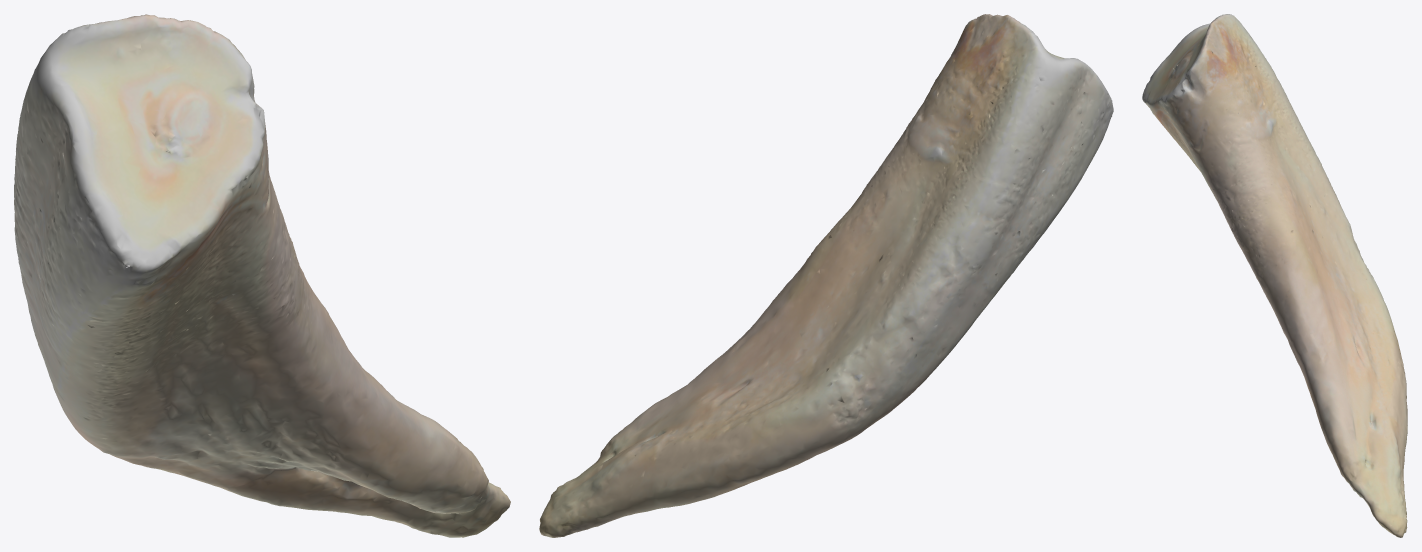
3 renders of one model, left to right at view 1: azimuth 30°, elevation 25°; view 2: azimuth 150°, elevation 25°; view 3: azimuth 270°, elevation 25°, orthographic. The views are drawn at different scales.
Visible parts, largest first — view 1: I3_li_oben_Pferd.001; view 2: I3_li_oben_Pferd.001; view 3: I3_li_oben_Pferd.001.
Boxes of the visible parts, bbox=[...] form: I3_li_oben_Pferd.001: bbox=[14, 14, 510, 537]; I3_li_oben_Pferd.001: bbox=[539, 14, 1113, 537]; I3_li_oben_Pferd.001: bbox=[1142, 14, 1407, 537].
Bounding box in the file's own units: 4289 × 5007 × 3096.
1 material, 1 textured.
